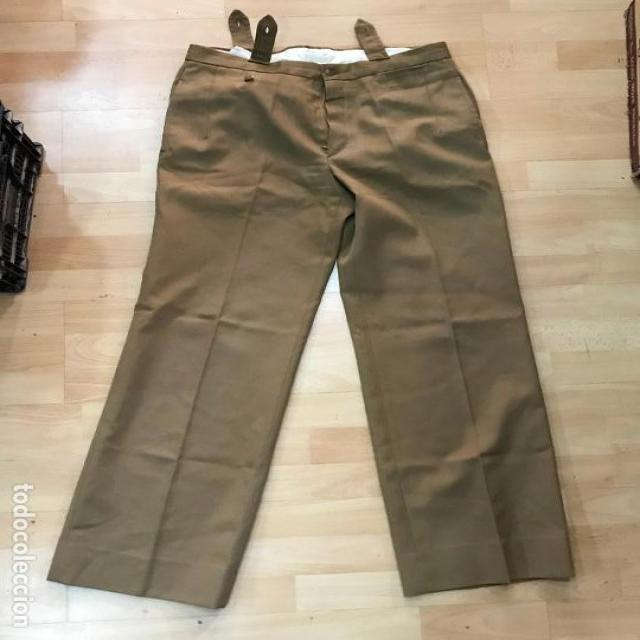long-pants: (46, 38, 574, 610)
